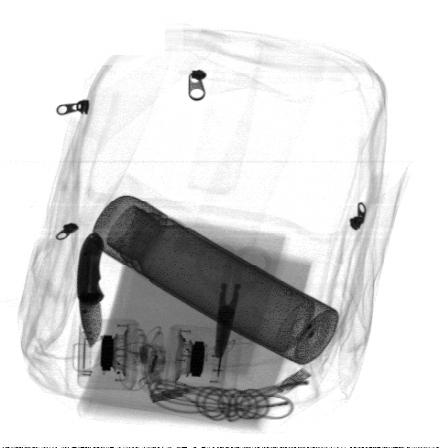Knife: (76, 232, 105, 347)
Scissors: (190, 244, 274, 359)
